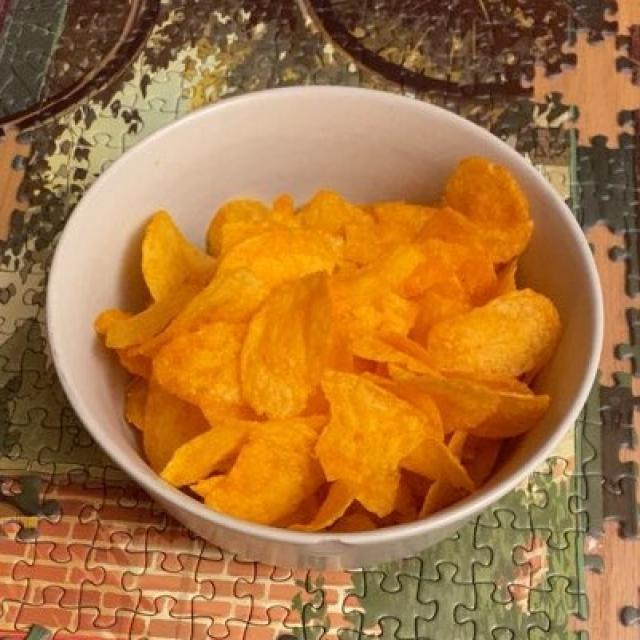chips: (98, 169, 561, 524)
